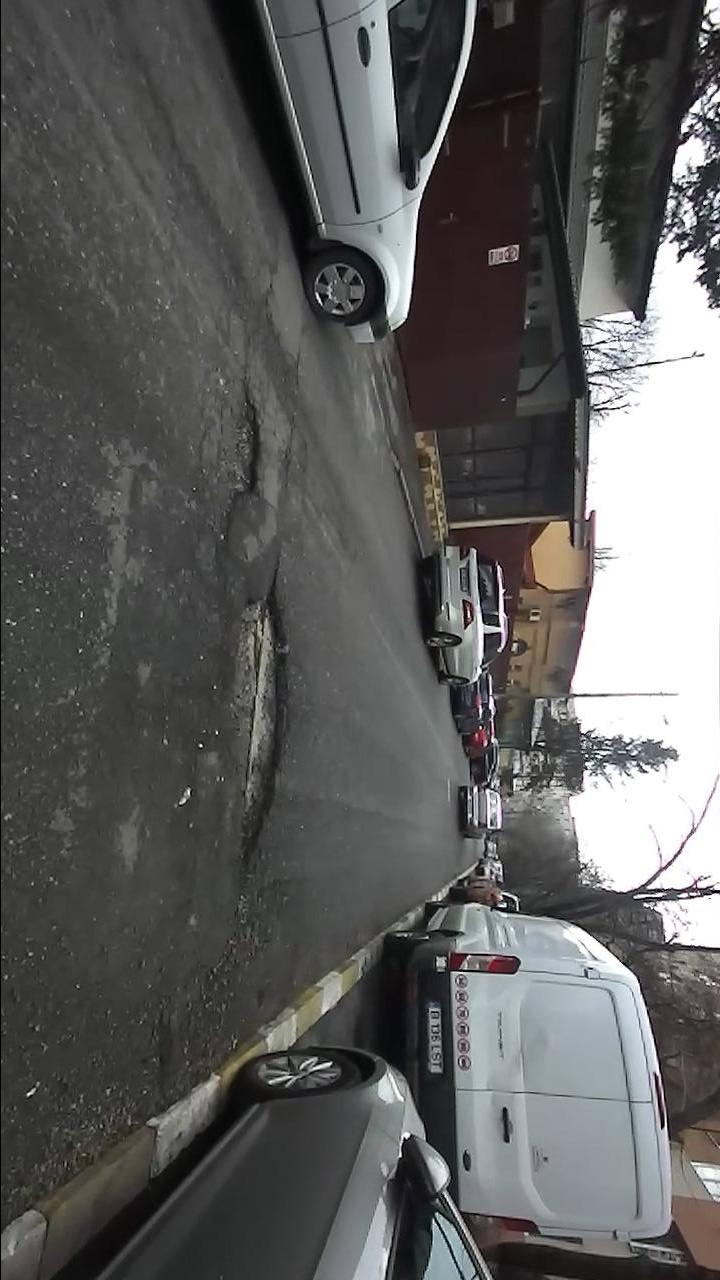pothole: (228, 574, 296, 871), (217, 383, 267, 544)
